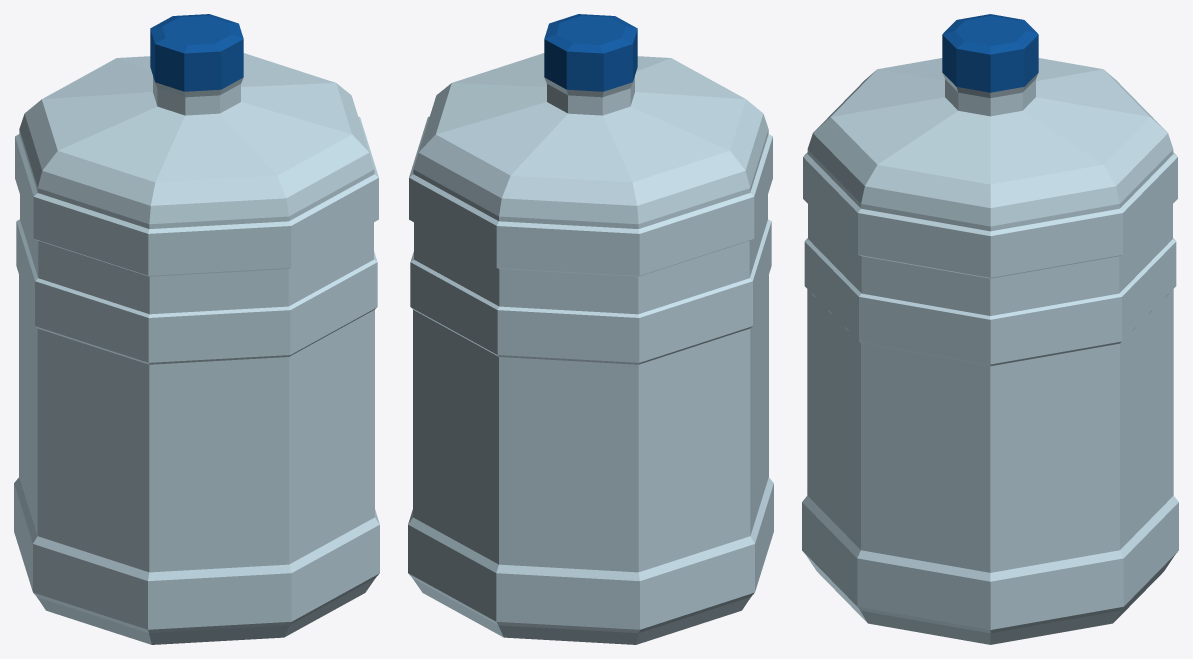
Rendered from water jug.glb.
3 views of the same model, side by side, from view 1: azimuth 30°, elevation 25°; view 2: azimuth 150°, elevation 25°; view 3: azimuth 270°, elevation 25° (orthographic).
Parts seen in each view (by area): view 1: WaterContainer.001; view 2: WaterContainer.001; view 3: WaterContainer.001.
Boxes of the visible parts, bbox=[...] form: WaterContainer.001: bbox=[14, 14, 379, 644]; WaterContainer.001: bbox=[408, 14, 773, 644]; WaterContainer.001: bbox=[802, 14, 1178, 644].
Bounding box in the file's own units: 2.12 × 3.47 × 2.12.
